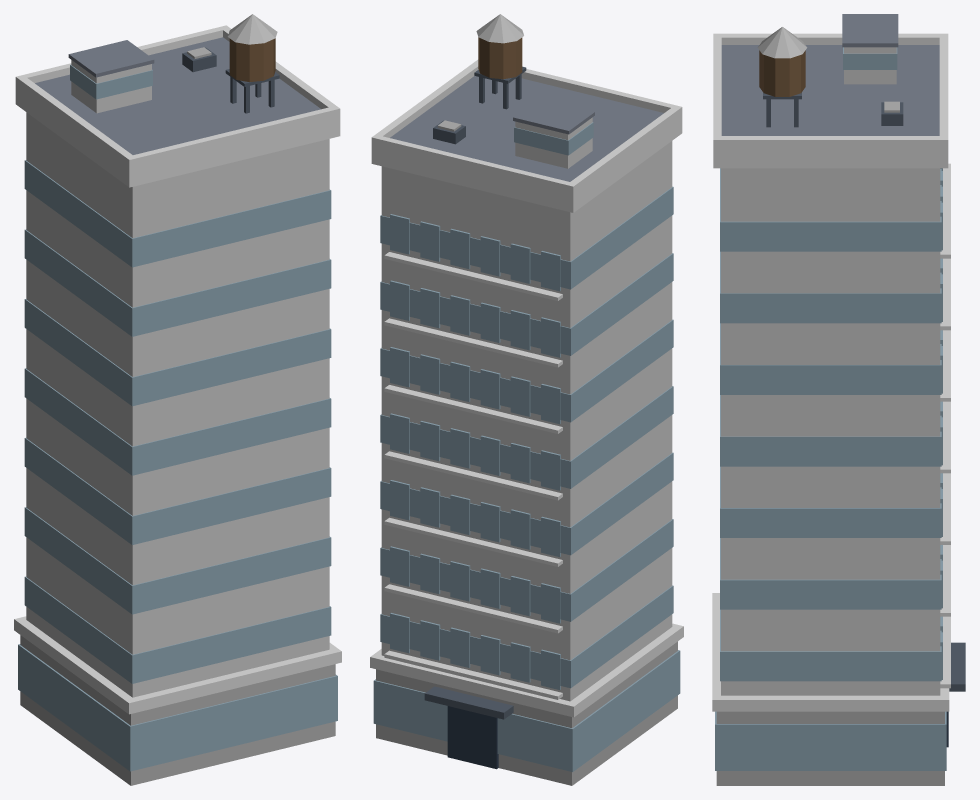
File: building_medium_hotel.glb
3 views of the same model, side by side, from view 1: azimuth 30°, elevation 25°; view 2: azimuth 150°, elevation 25°; view 3: azimuth 270°, elevation 25° (orthographic). The views are drawn at different scales.
Parts seen in each view (by area): view 1: building_medium_hotel; view 2: building_medium_hotel; view 3: building_medium_hotel.
Boxes of the visible parts, box(x1,y1,x2,y2) form: building_medium_hotel: box(14, 14, 341, 785); building_medium_hotel: box(370, 14, 683, 785); building_medium_hotel: box(712, 14, 965, 785).
Size of the model in its own units: 11.22 by 35.83 by 11.22.
